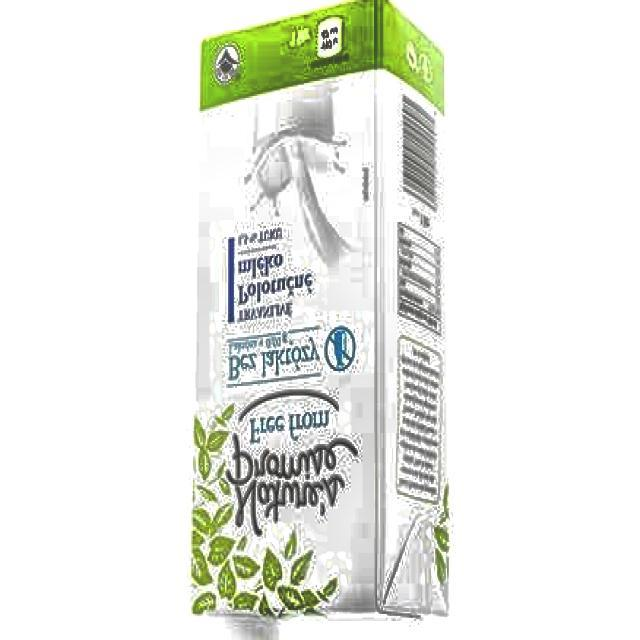cardboard: (188, 0, 450, 633)
